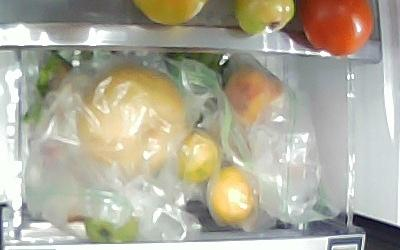peach_vinyl: (222, 68, 285, 126)
pear_vinyl: (76, 66, 185, 176)
tangerine_vinyl: (208, 166, 254, 221), (177, 131, 219, 182)
tomato_vinyl: (85, 212, 140, 243)
